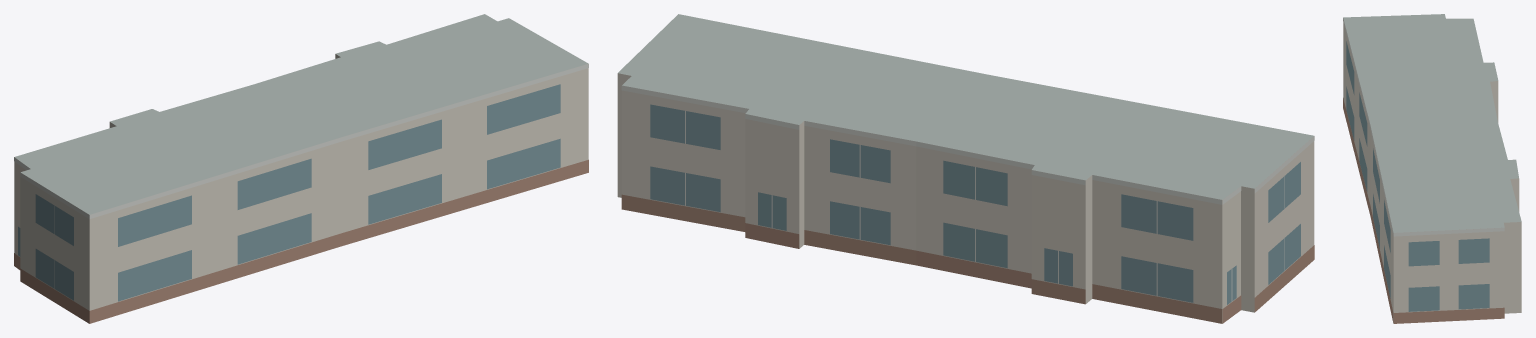
File: survey-upis-32955832.glb
3 views of the same model, side by side, from view 1: azimuth 30°, elevation 25°; view 2: azimuth 150°, elevation 25°; view 3: azimuth 270°, elevation 25° (orthographic). The views are drawn at different scales.
Parts seen in each view (by area): view 1: survey-upis-32955832.tmp; view 2: survey-upis-32955832.tmp; view 3: survey-upis-32955832.tmp.
Part boxes in pixels (bbox=[...]): survey-upis-32955832.tmp: bbox=[14, 14, 588, 323]; survey-upis-32955832.tmp: bbox=[617, 14, 1314, 323]; survey-upis-32955832.tmp: bbox=[1343, 14, 1521, 323].
Bounding box in the file's own units: 31.49 × 6.1 × 10.86.
